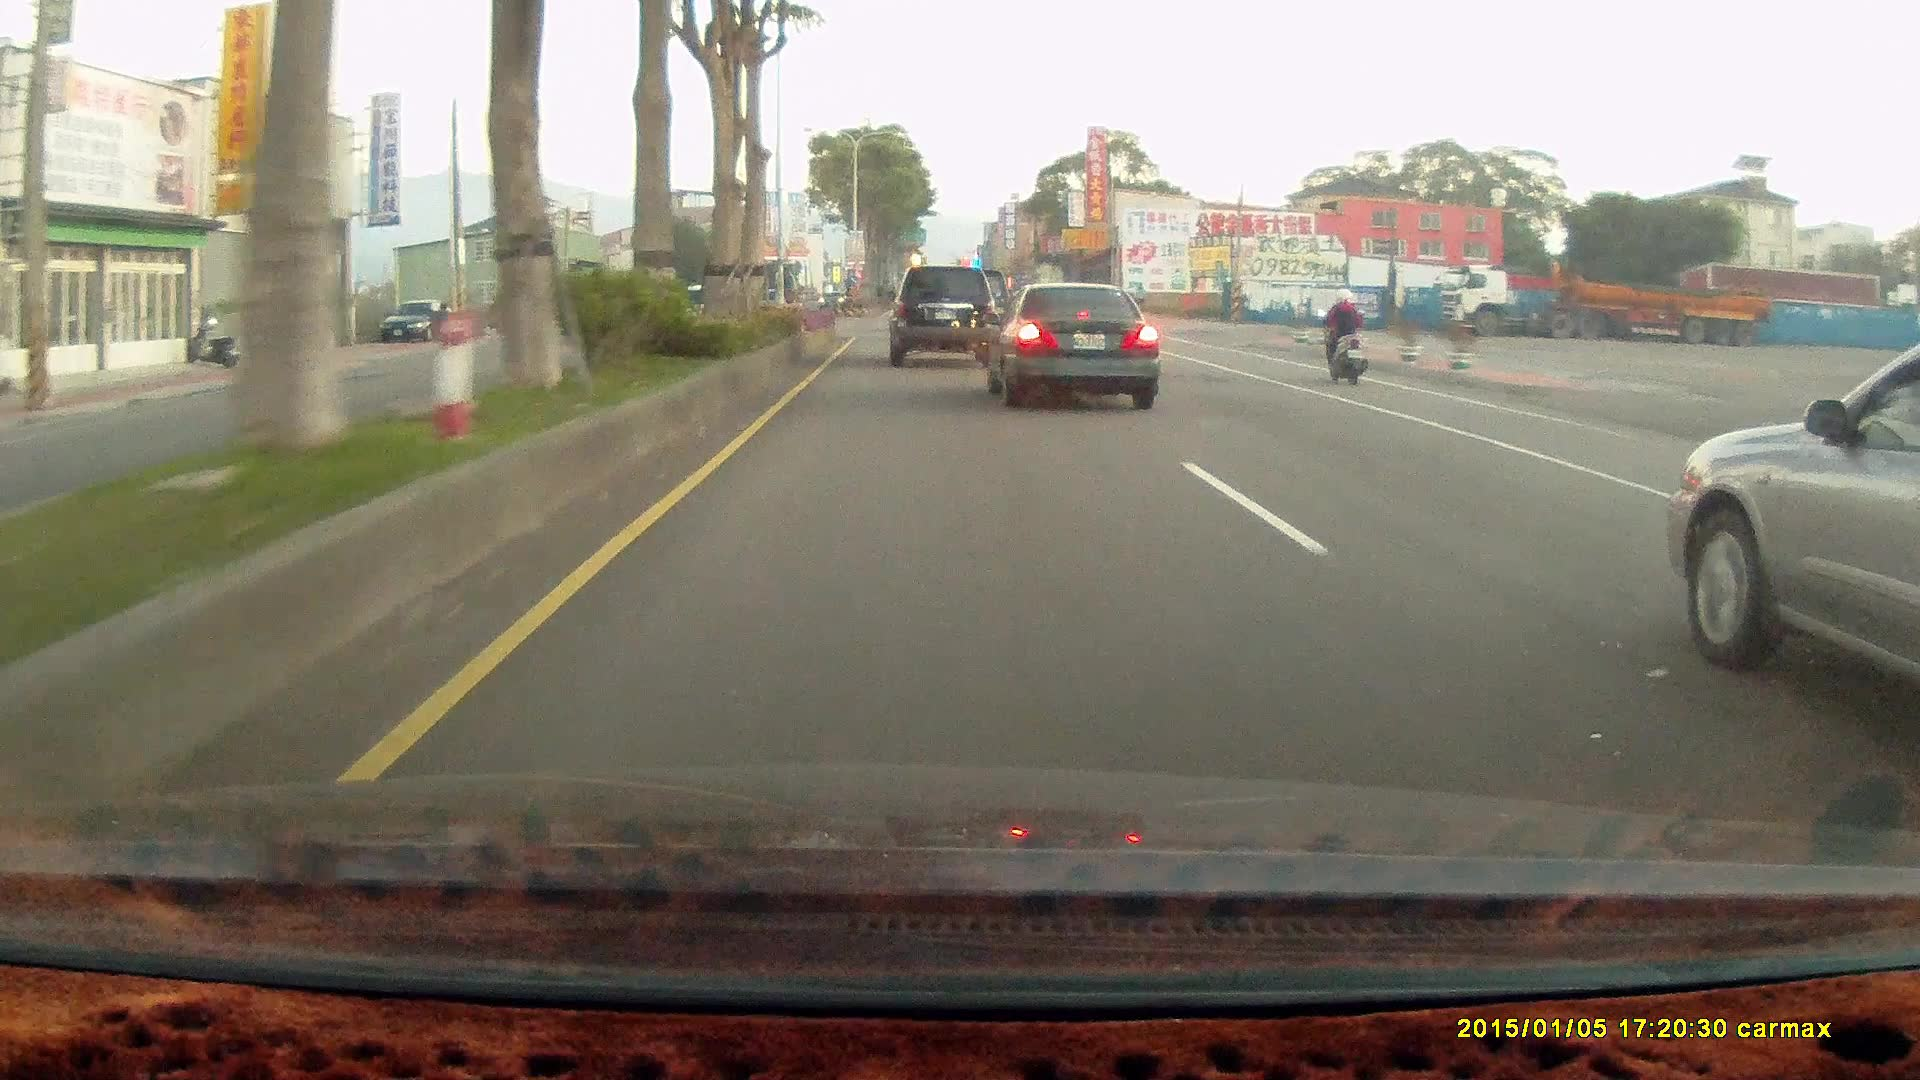rider: (1311, 282, 1377, 389), (1314, 286, 1369, 384)
vehicle: (1663, 330, 1920, 723), (1432, 266, 1768, 347), (983, 283, 1161, 413), (984, 284, 1157, 407), (882, 263, 1000, 366), (883, 265, 997, 366), (380, 297, 455, 349), (379, 297, 453, 348)
